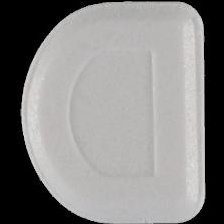68151-0607: (0, 0, 224, 224)
